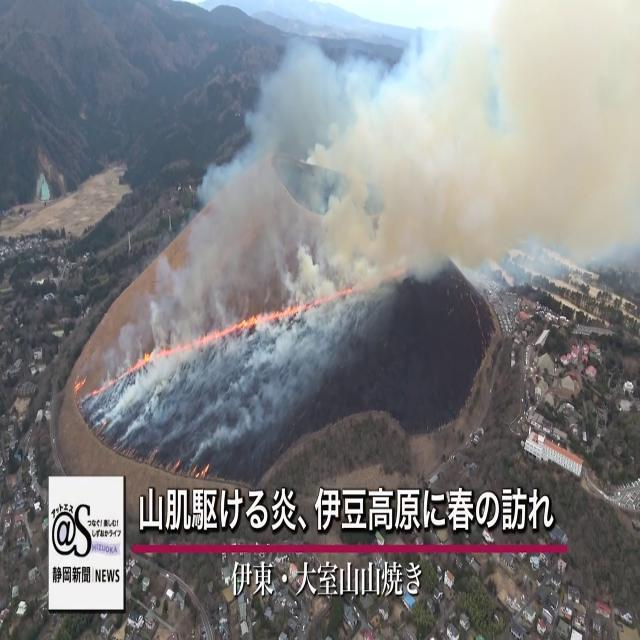Smoke: (132, 3, 640, 328)
